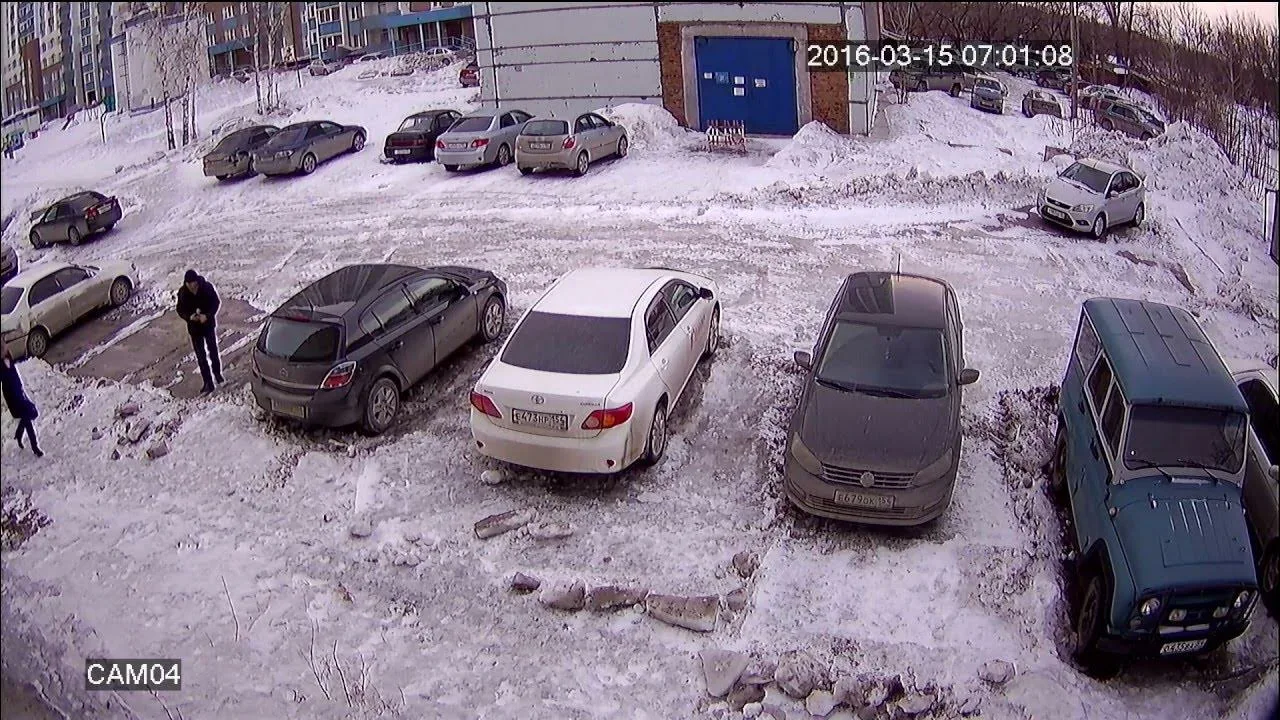Car: (1046, 296, 1258, 674), (469, 267, 722, 474), (783, 270, 980, 528), (251, 263, 508, 434), (0, 262, 139, 358), (1234, 367, 1280, 612), (1038, 159, 1146, 239), (513, 112, 627, 175), (254, 119, 367, 177), (435, 108, 535, 172), (29, 191, 122, 248), (202, 125, 280, 181), (385, 109, 461, 163), (1094, 99, 1165, 141), (902, 59, 965, 96), (957, 62, 1008, 96), (970, 73, 1003, 114), (1021, 90, 1061, 118), (1125, 104, 1165, 131), (1081, 92, 1129, 109), (0, 243, 18, 288), (1078, 85, 1117, 103), (426, 46, 460, 64), (460, 56, 480, 86), (309, 59, 339, 76), (1034, 70, 1064, 87), (1012, 59, 1037, 77), (352, 52, 388, 64), (1064, 81, 1093, 95), (230, 68, 256, 83), (1052, 66, 1072, 78), (1058, 76, 1072, 90)
